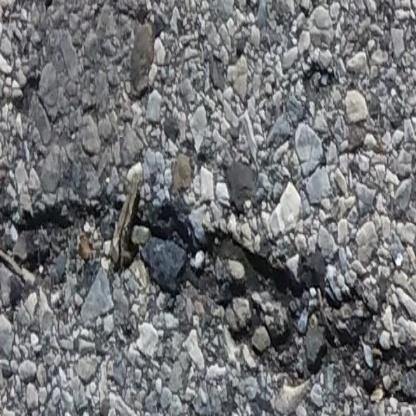Cracks: (0, 188, 416, 416)
